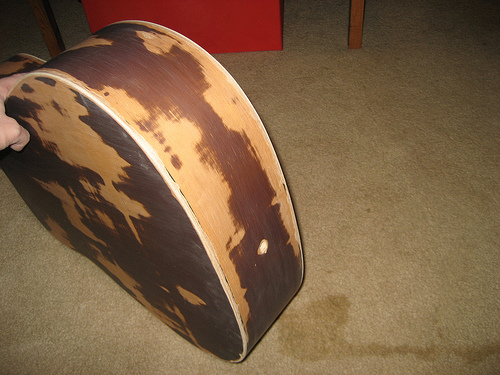guitar: (1, 20, 305, 365)
